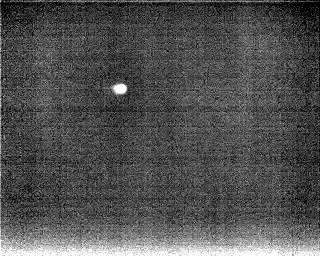AIRPLANE: (111, 81, 130, 97)
